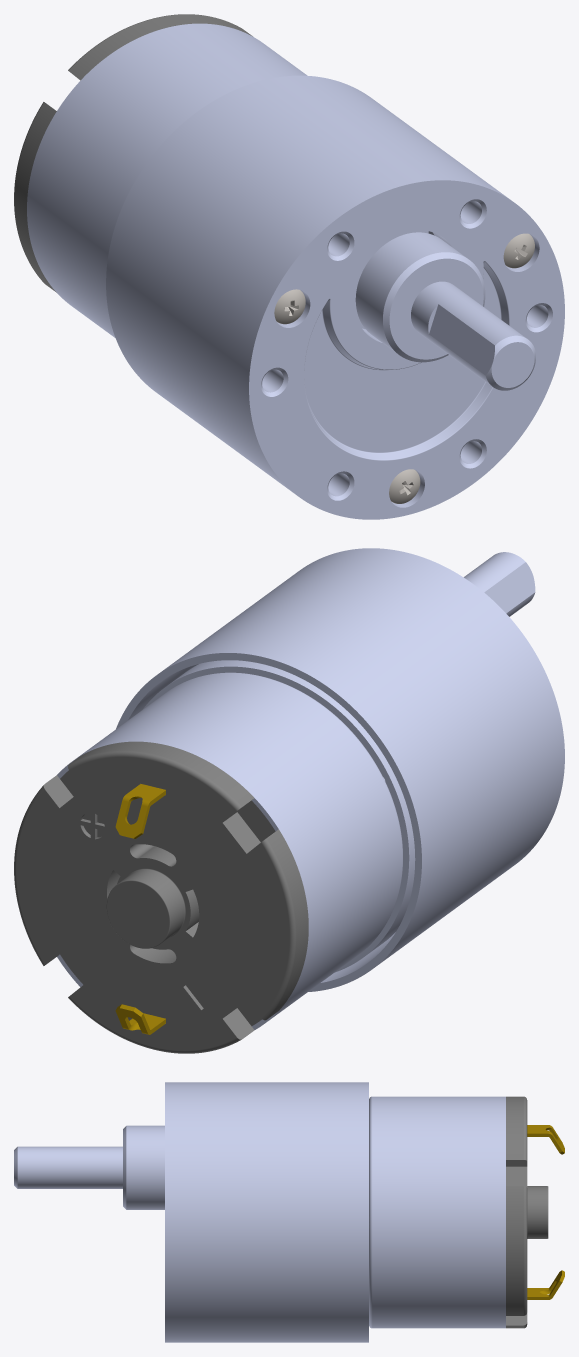
File: JGB37-520_converted.glb
3 renders of one model, top to bottom at view 1: azimuth 30°, elevation 25°; view 2: azimuth 150°, elevation 25°; view 3: azimuth 270°, elevation 25°, orthographic. The views are drawn at different scales.
Parts seen in each view (by area): view 1: NAUO1, NAUO2, NAUO4, NAUO3, NAUO6, NAUO9, NAUO11, NAUO10; view 2: NAUO1, NAUO6, NAUO2, NAUO5, NAUO3, NAUO7, NAUO8; view 3: NAUO1, NAUO2, NAUO6, NAUO3, NAUO4, NAUO7, NAUO8.
Part boxes in pixels (x1,y1,x2,y2): NAUO1: (106,75,564,519); NAUO2: (27,23,306,337); NAUO4: (355,232,485,362); NAUO3: (411,281,535,390); NAUO6: (14,14,252,292); NAUO9: (274,289,305,324); NAUO11: (503,233,534,268); NAUO10: (389,469,420,503); NAUO1: (116,548,564,991); NAUO6: (14,741,308,1053); NAUO2: (57,672,402,1029); NAUO5: (143,660,415,972); NAUO3: (464,552,535,616); NAUO7: (115,784,165,838); NAUO8: (115,1004,165,1034); NAUO1: (165,1082,368,1342); NAUO2: (369,1096,505,1328); NAUO6: (506,1096,548,1328); NAUO3: (14,1146,122,1188); NAUO4: (123,1125,164,1209); NAUO7: (527,1125,564,1154); NAUO8: (527,1270,564,1299).
Bounding box in the file's own units: 0.037 × 0.037 × 0.0784.
